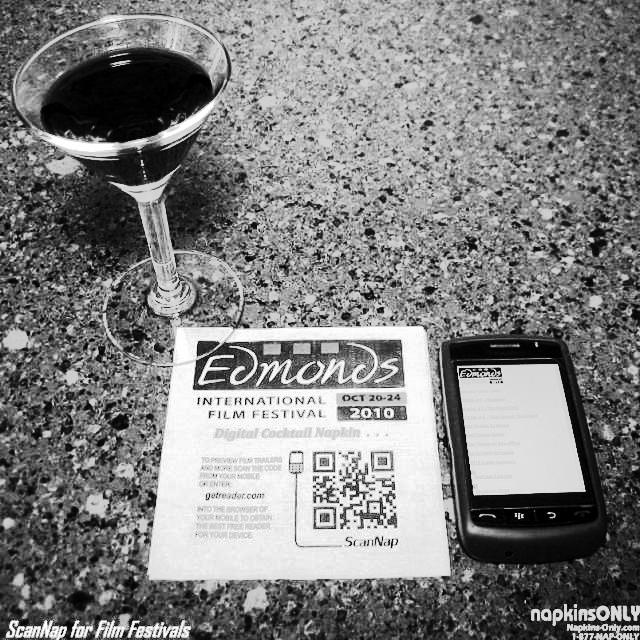qr_code: (312, 451, 397, 529)
